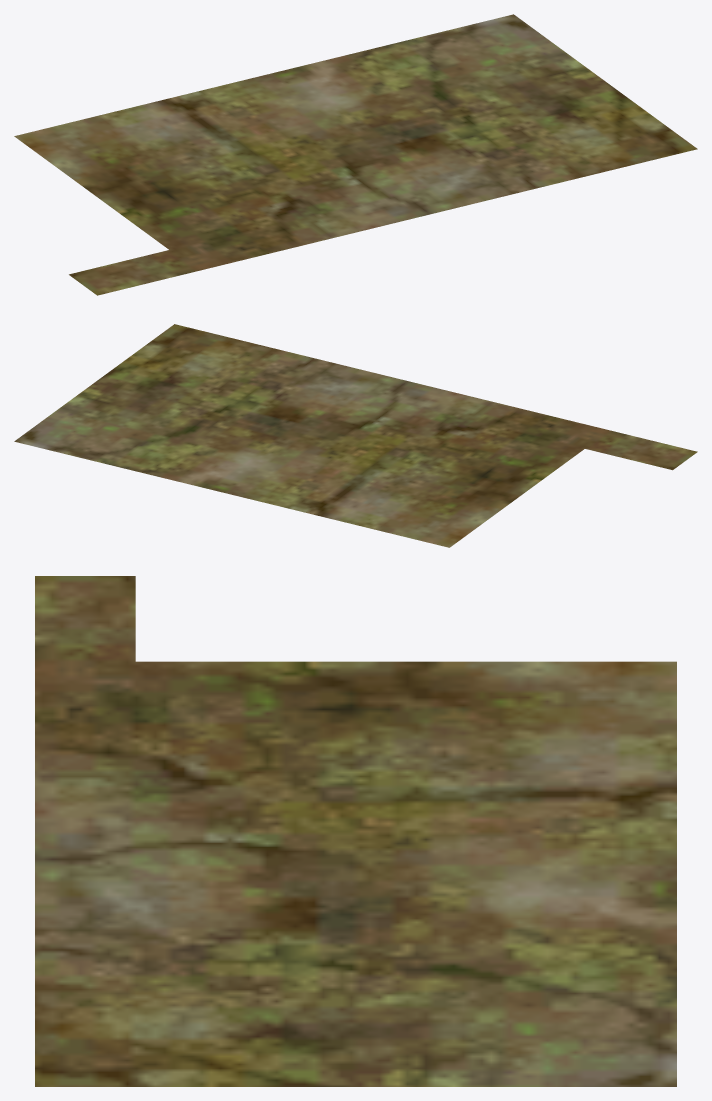
The model's file is OVERHILL_A_01_OBJECT95.fbx.
3 views of the same model, one above another, from view 1: azimuth 30°, elevation 25°; view 2: azimuth 150°, elevation 25°; view 3: azimuth 270°, elevation 25° (orthographic). The views are drawn at different scales.
Visible parts, largest first — view 1: OVERHILL_A_01_OBJECT95; view 2: OVERHILL_A_01_OBJECT95; view 3: OVERHILL_A_01_OBJECT95.
Boxes of the visible parts, <box> form: OVERHILL_A_01_OBJECT95: <box>14,14,697,295</box>; OVERHILL_A_01_OBJECT95: <box>14,324,697,547</box>; OVERHILL_A_01_OBJECT95: <box>35,576,676,1086</box>.
Bounding box in the file's own units: 24035 × 0.0485 × 12768.
1 material, 1 textured.
